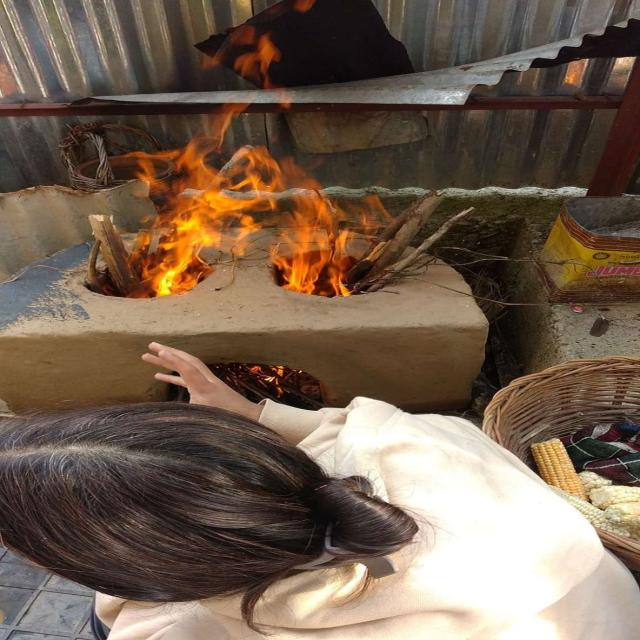fire: (124, 105, 279, 297), (278, 158, 389, 297), (228, 26, 281, 86)
